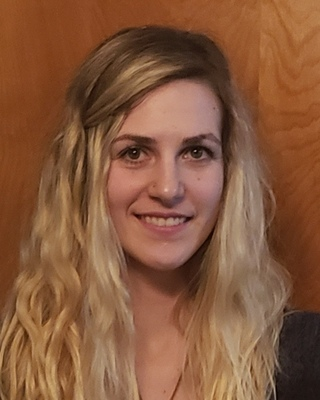bare: (102, 170, 227, 271)
